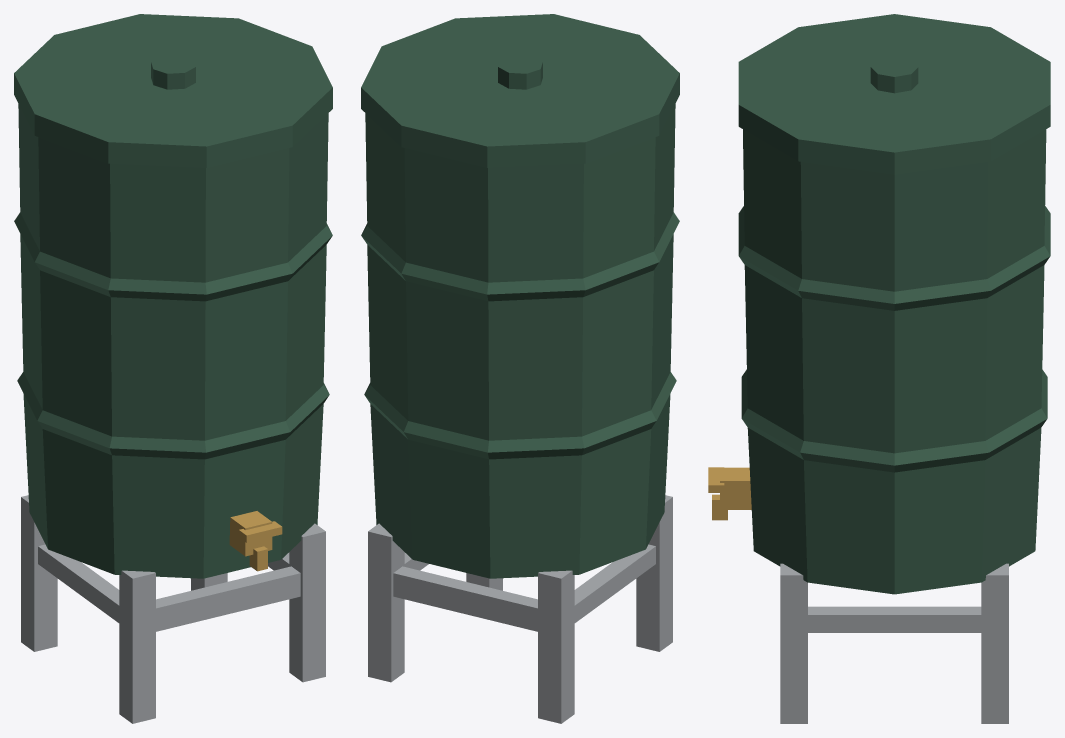
Rendered from FN_Butt_Water.obj.
The picture shows the model from 3 angles, left to right: view 1: azimuth 30°, elevation 25°; view 2: azimuth 150°, elevation 25°; view 3: azimuth 270°, elevation 25°; orthographic projection. The views are drawn at different scales.
Visible parts, largest first — view 1: FN_Butt_Water; view 2: FN_Butt_Water; view 3: FN_Butt_Water.
Part boxes in pixels (x1,y1,x2,y2): FN_Butt_Water: (14,14,332,723); FN_Butt_Water: (361,14,679,723); FN_Butt_Water: (708,14,1050,723).
Bounding box in the file's own units: 0.62 × 1.27 × 0.6468.
1 material, 1 textured.
